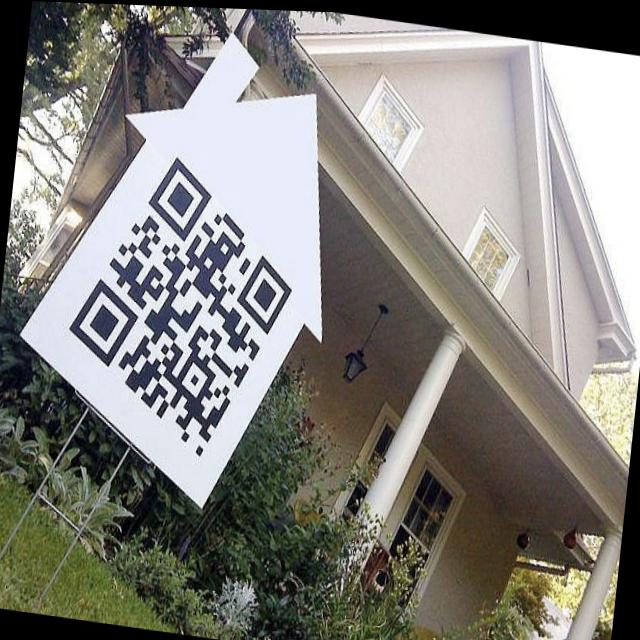qrcode: (58, 142, 304, 465)
